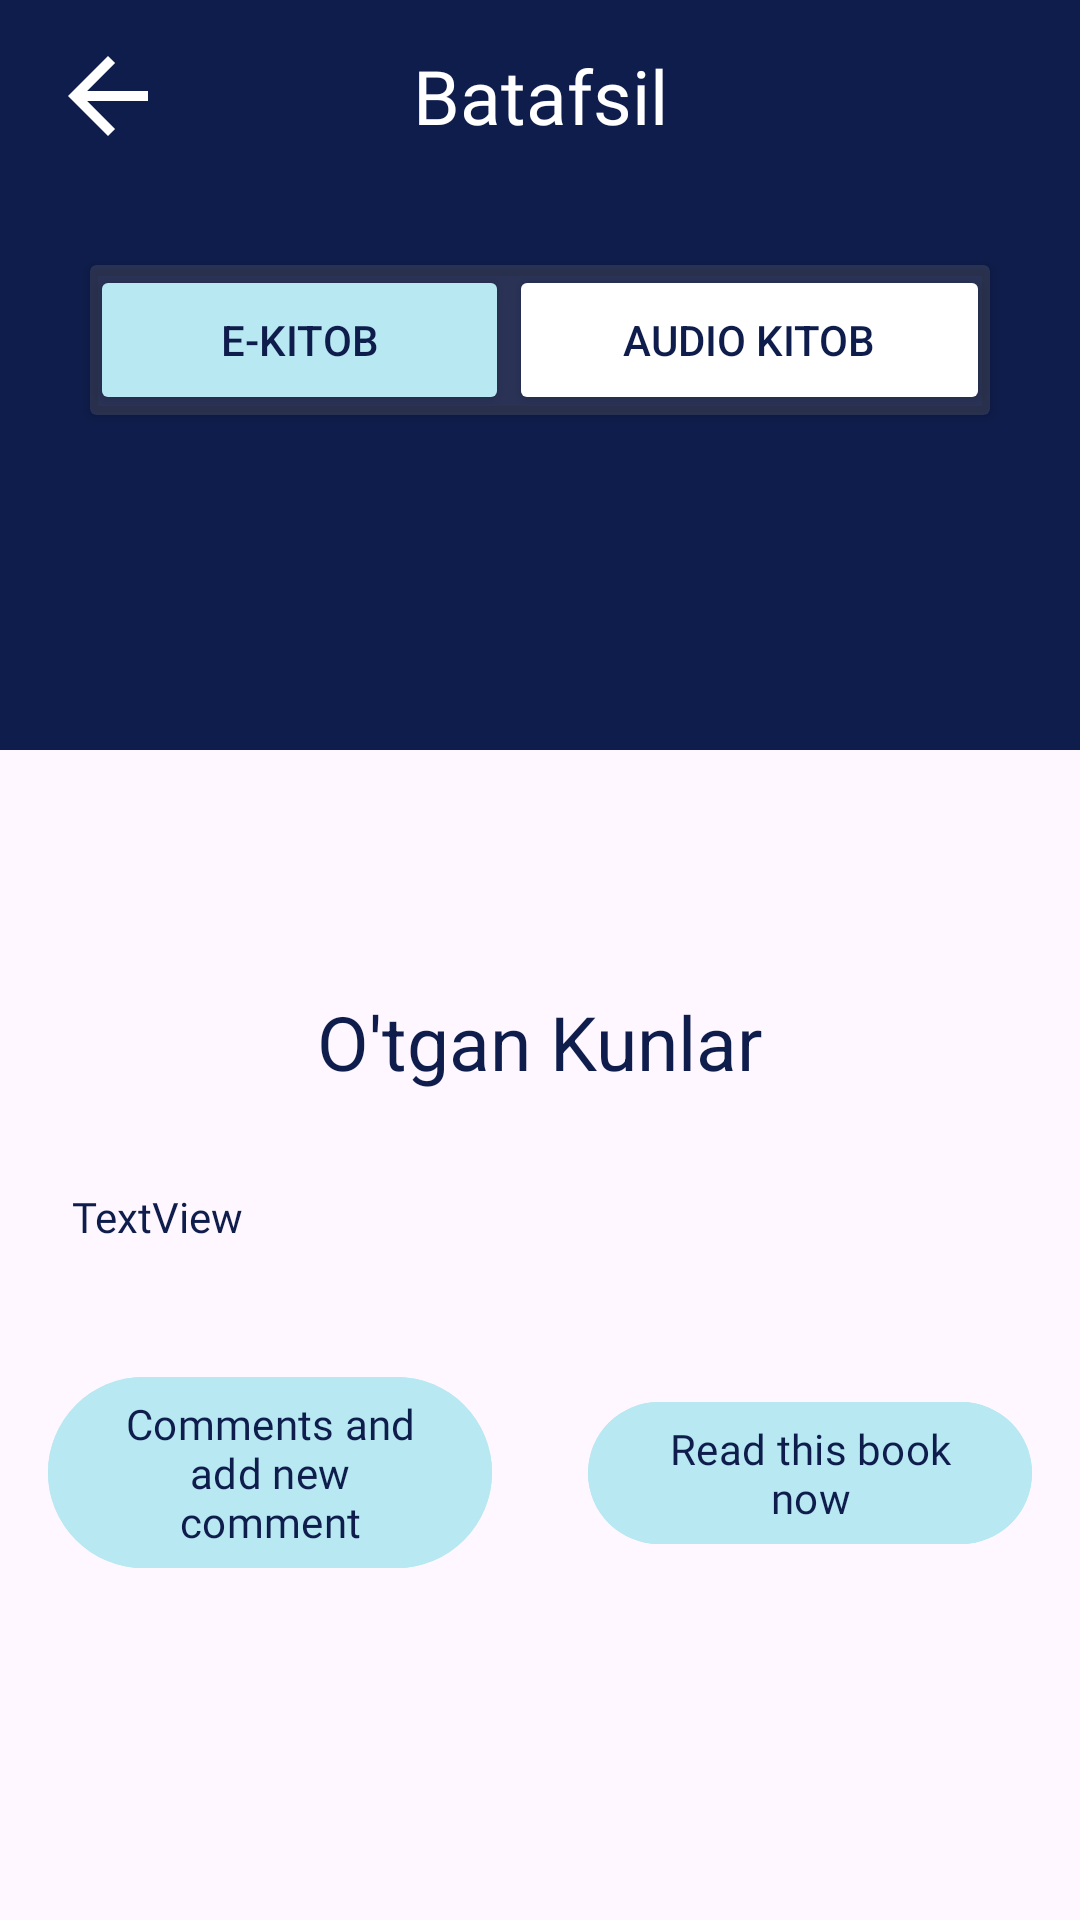

Icons on this 1080x1920 Android screen, each with its box as (x1, y1, x2, y2):
back: (68, 56, 148, 136)
